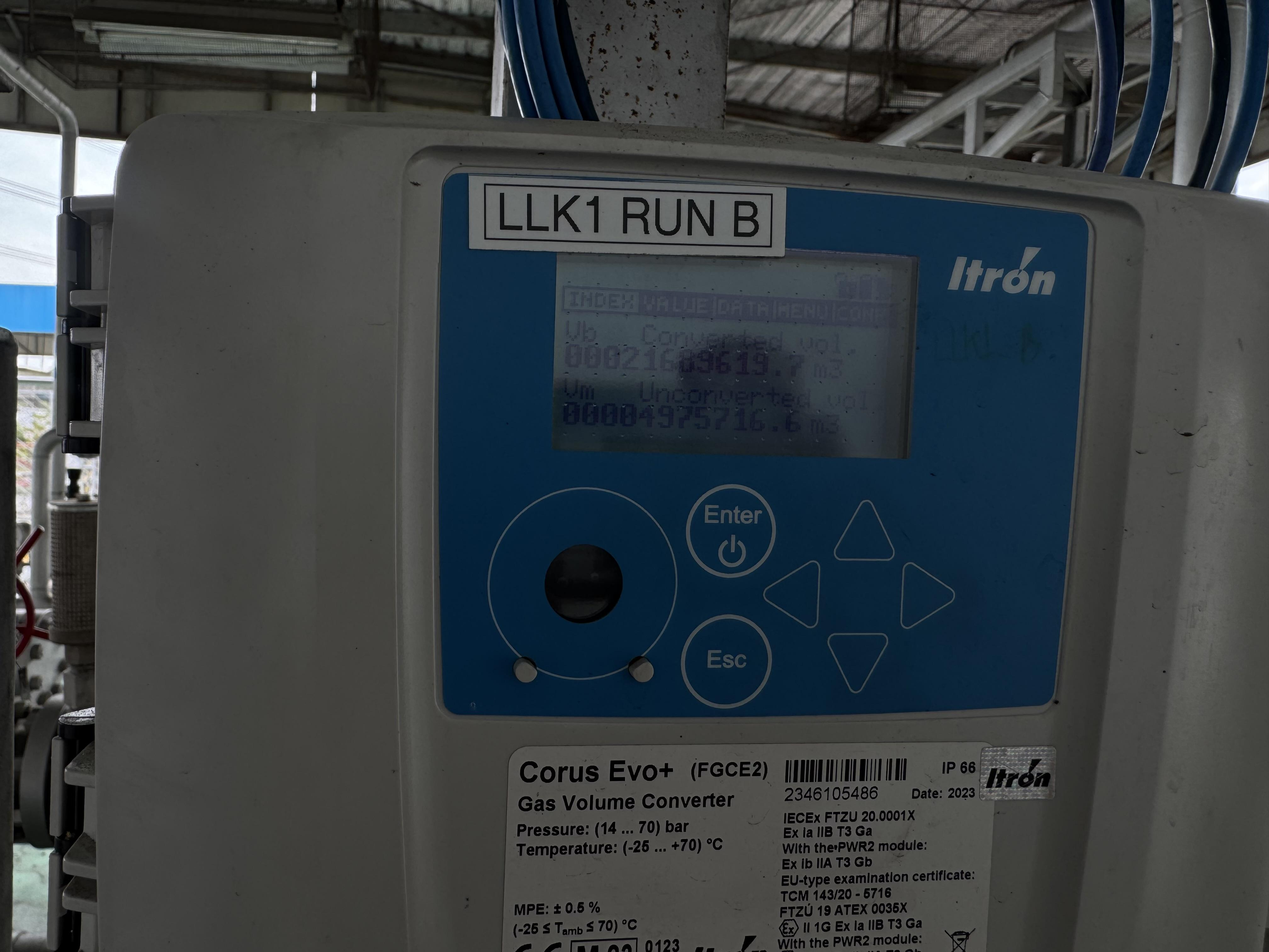digital_screen: (552, 238, 918, 458)
